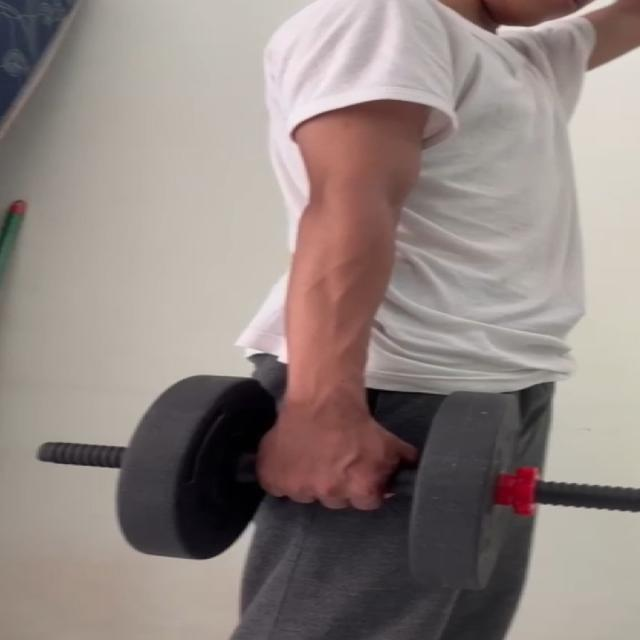hammer: (111, 372, 522, 591)
